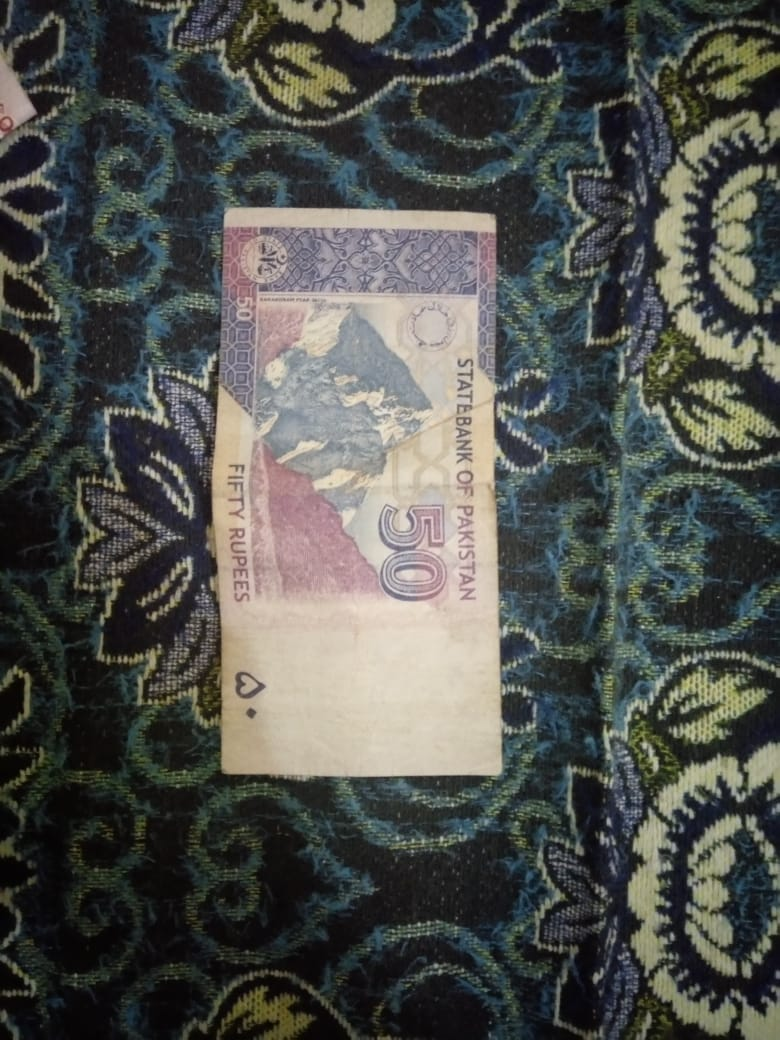50 rupee: (193, 206, 521, 823)
